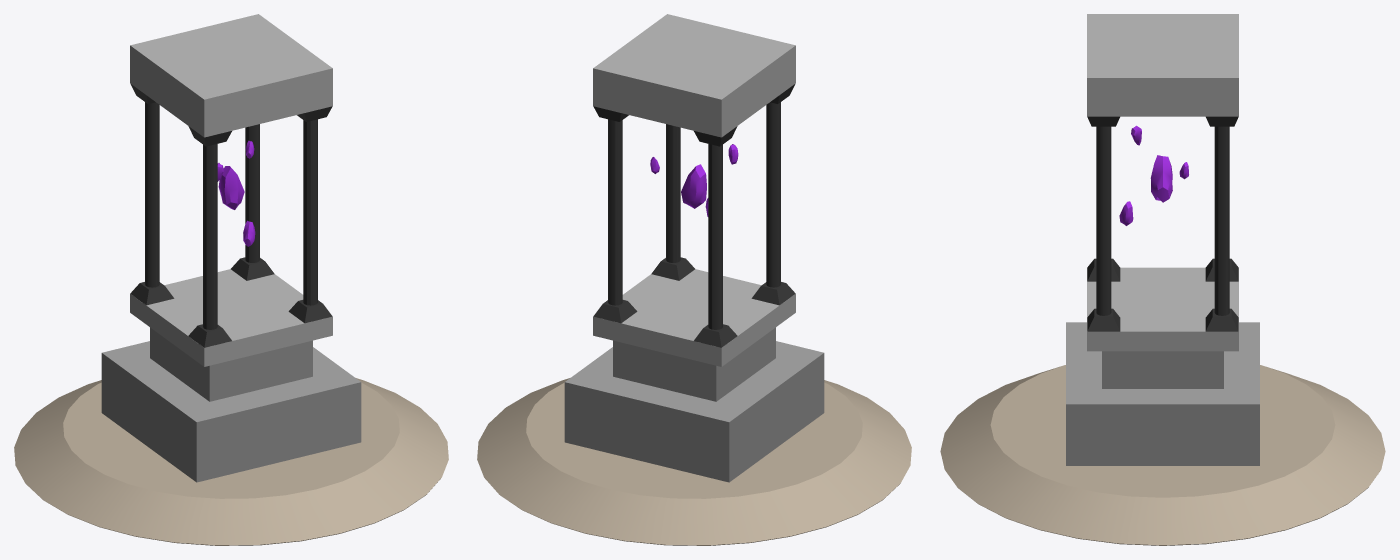
The model's file is Poison Tower Lv1.fbx.
3 views of the same model, side by side, from view 1: azimuth 30°, elevation 25°; view 2: azimuth 150°, elevation 25°; view 3: azimuth 270°, elevation 25° (orthographic). The views are drawn at different scales.
Parts seen in each view (by area): view 1: Poison Tower Lv1, Crystal Main Lv1; view 2: Poison Tower Lv1, Crystal Main Lv1; view 3: Poison Tower Lv1, Crystal Main Lv1.
Boxes of the visible parts, x1,y1,x2,y2 form: Poison Tower Lv1: (14, 14, 448, 545); Crystal Main Lv1: (218, 166, 244, 209); Poison Tower Lv1: (477, 14, 911, 545); Crystal Main Lv1: (681, 164, 706, 208); Poison Tower Lv1: (940, 14, 1385, 545); Crystal Main Lv1: (1150, 155, 1172, 202).
Size of the model in its own units: 389 by 391 by 389.
